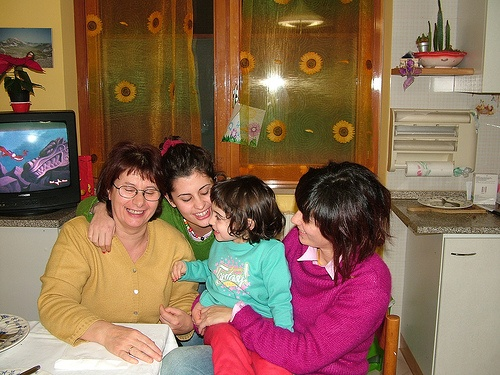head: (291, 162, 388, 279), (105, 139, 164, 234), (208, 175, 287, 243), (162, 143, 213, 227)
person: (208, 156, 392, 374), (39, 140, 204, 365), (157, 151, 293, 375), (155, 140, 219, 244)
